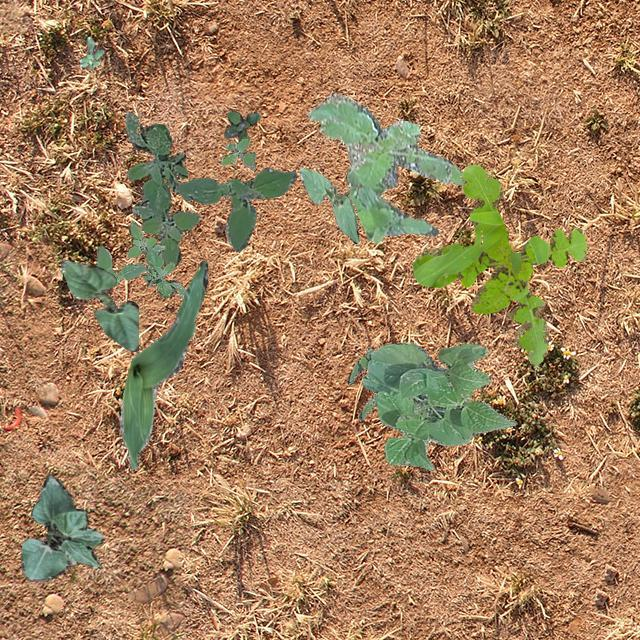crop: (360, 342, 514, 469), (118, 260, 206, 468), (21, 474, 102, 580), (59, 258, 138, 350), (298, 166, 358, 242)
weed: (412, 164, 586, 366), (124, 110, 296, 266), (306, 92, 464, 242), (96, 220, 184, 296), (346, 346, 378, 419), (223, 110, 260, 140), (220, 136, 254, 168), (78, 36, 102, 70)
